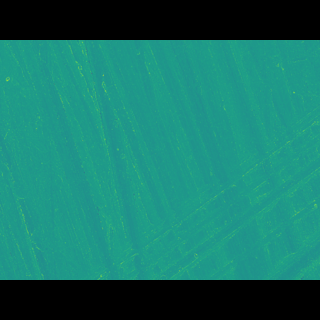Loch: (75, 118, 319, 251), (75, 69, 154, 251)
